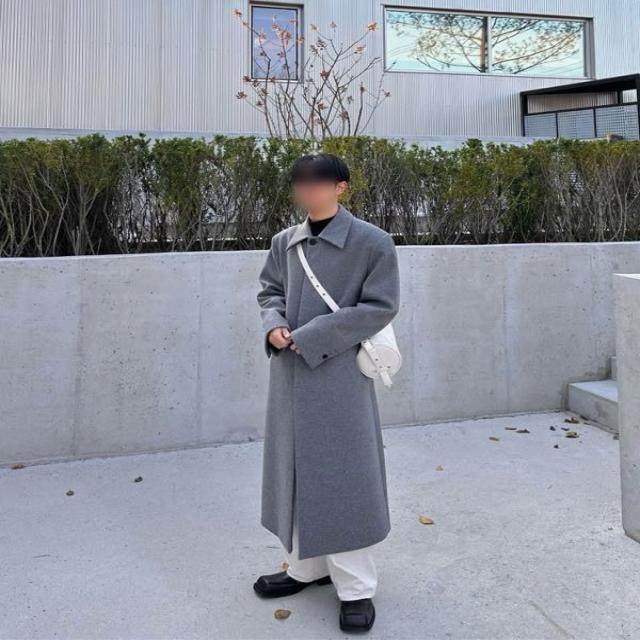coat: (257, 205, 403, 560)
cottonpants: (287, 481, 379, 602)
